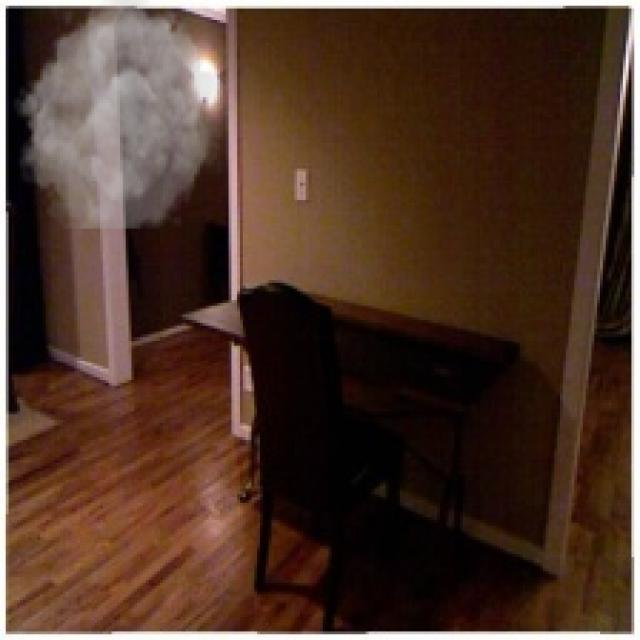Smoke: (11, 0, 226, 229)
